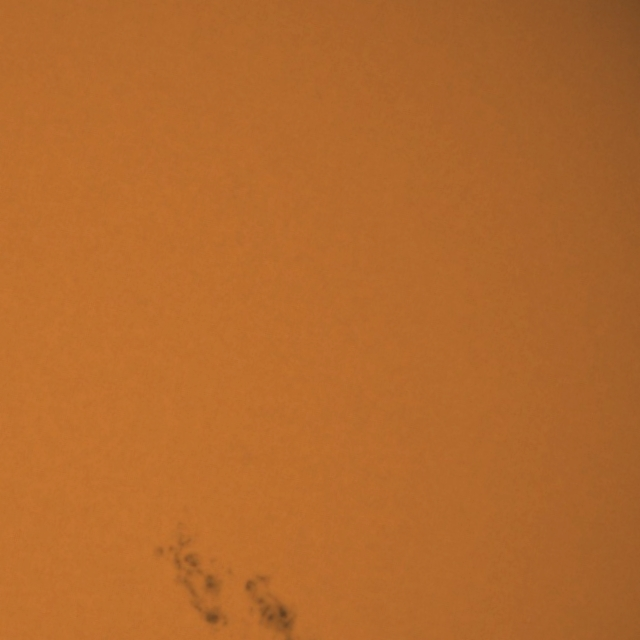sunspot: (167, 546, 223, 600), (154, 534, 207, 580), (249, 593, 293, 640), (243, 574, 284, 624), (191, 600, 231, 632)
